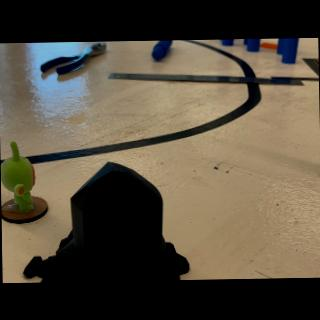teletubby: (0, 141, 35, 212)
